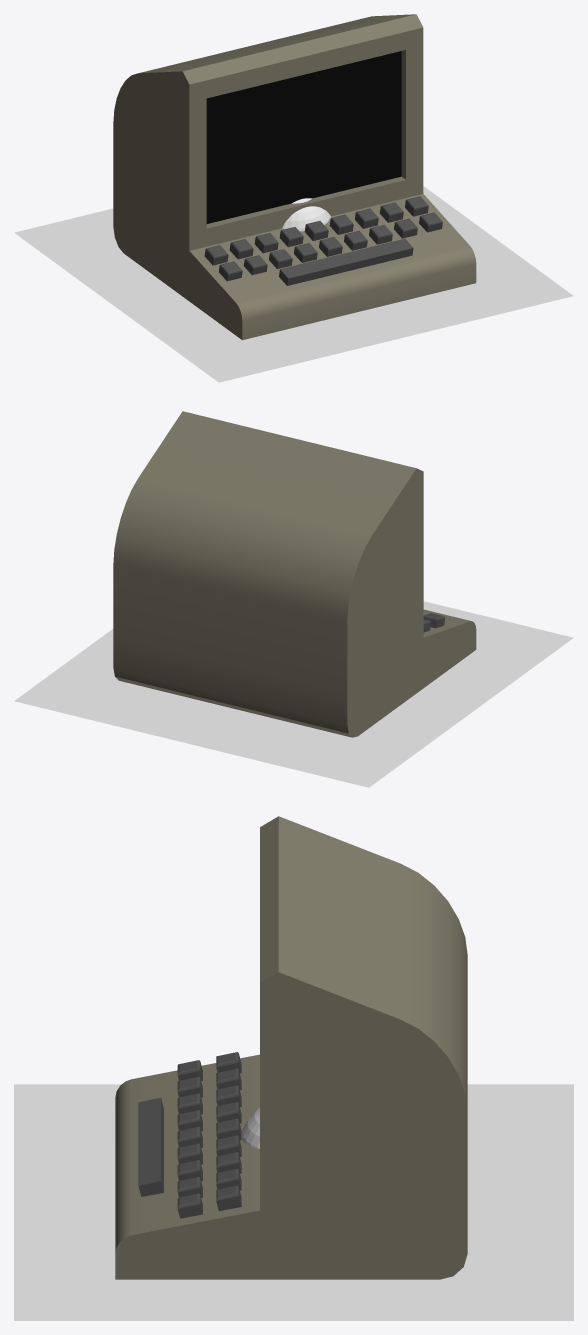
File: computer.fbx
The picture shows the model from 3 angles, top to bottom: view 1: azimuth 30°, elevation 25°; view 2: azimuth 150°, elevation 25°; view 3: azimuth 270°, elevation 25°; orthographic projection. The views are drawn at different scales.
Visible parts, largest first — view 1: computer, Plane, Sphere; view 2: computer, Plane; view 3: computer, Plane.
Boxes of the visible parts, x1,y1,x2,y2 form: computer: (113,14,476,340); Plane: (14,186,573,382); Sphere: (282,198,330,231); computer: (113,411,476,737); Plane: (14,601,573,787); computer: (115,816,467,1279); Plane: (14,1084,573,1320).
Size of the model in its own units: 100 by 60.75 by 100.
